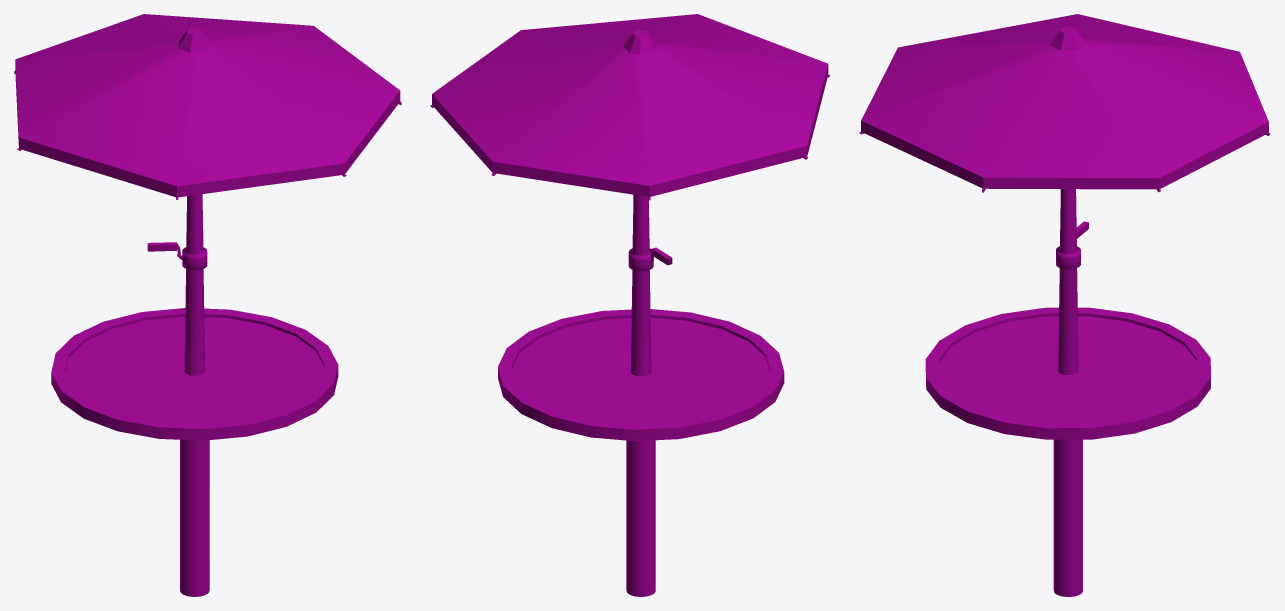
File: m_table.fbx
3 renders of one model, left to right at view 1: azimuth 30°, elevation 25°; view 2: azimuth 150°, elevation 25°; view 3: azimuth 270°, elevation 25°, orthographic.
Parts seen in each view (by area): view 1: pCylinder173; view 2: pCylinder173; view 3: pCylinder173.
Boxes of the visible parts, x1=… form: pCylinder173: x1=14, y1=14, x2=401, y2=596; pCylinder173: x1=430, y1=14, x2=830, y2=596; pCylinder173: x1=859, y1=14, x2=1270, y2=596.
Bounding box in the file's own units: 571 × 902 × 600.
